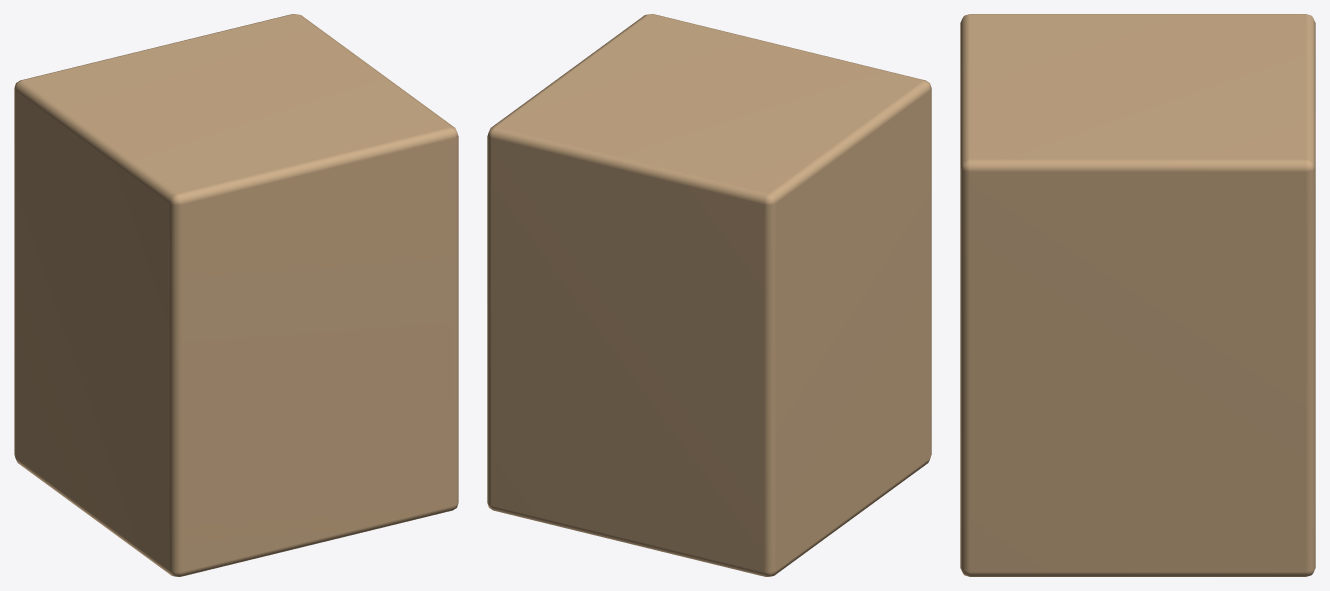
Rendered from ikea_tarno_table_80165129.glb.
The picture shows the model from 3 angles, left to right: view 1: azimuth 30°, elevation 25°; view 2: azimuth 150°, elevation 25°; view 3: azimuth 270°, elevation 25°; orthographic projection. The views are drawn at different scales.
Parts seen in each view (by area): view 1: balcony_table.002; view 2: balcony_table.002; view 3: balcony_table.002.
Part boxes in pixels (x1=…): balcony_table.002: x1=14, y1=14, x2=458, y2=576; balcony_table.002: x1=487, y1=14, x2=931, y2=576; balcony_table.002: x1=960, y1=14, x2=1315, y2=576.
Bounding box in the file's own units: 0.55 × 0.7 × 0.54.
